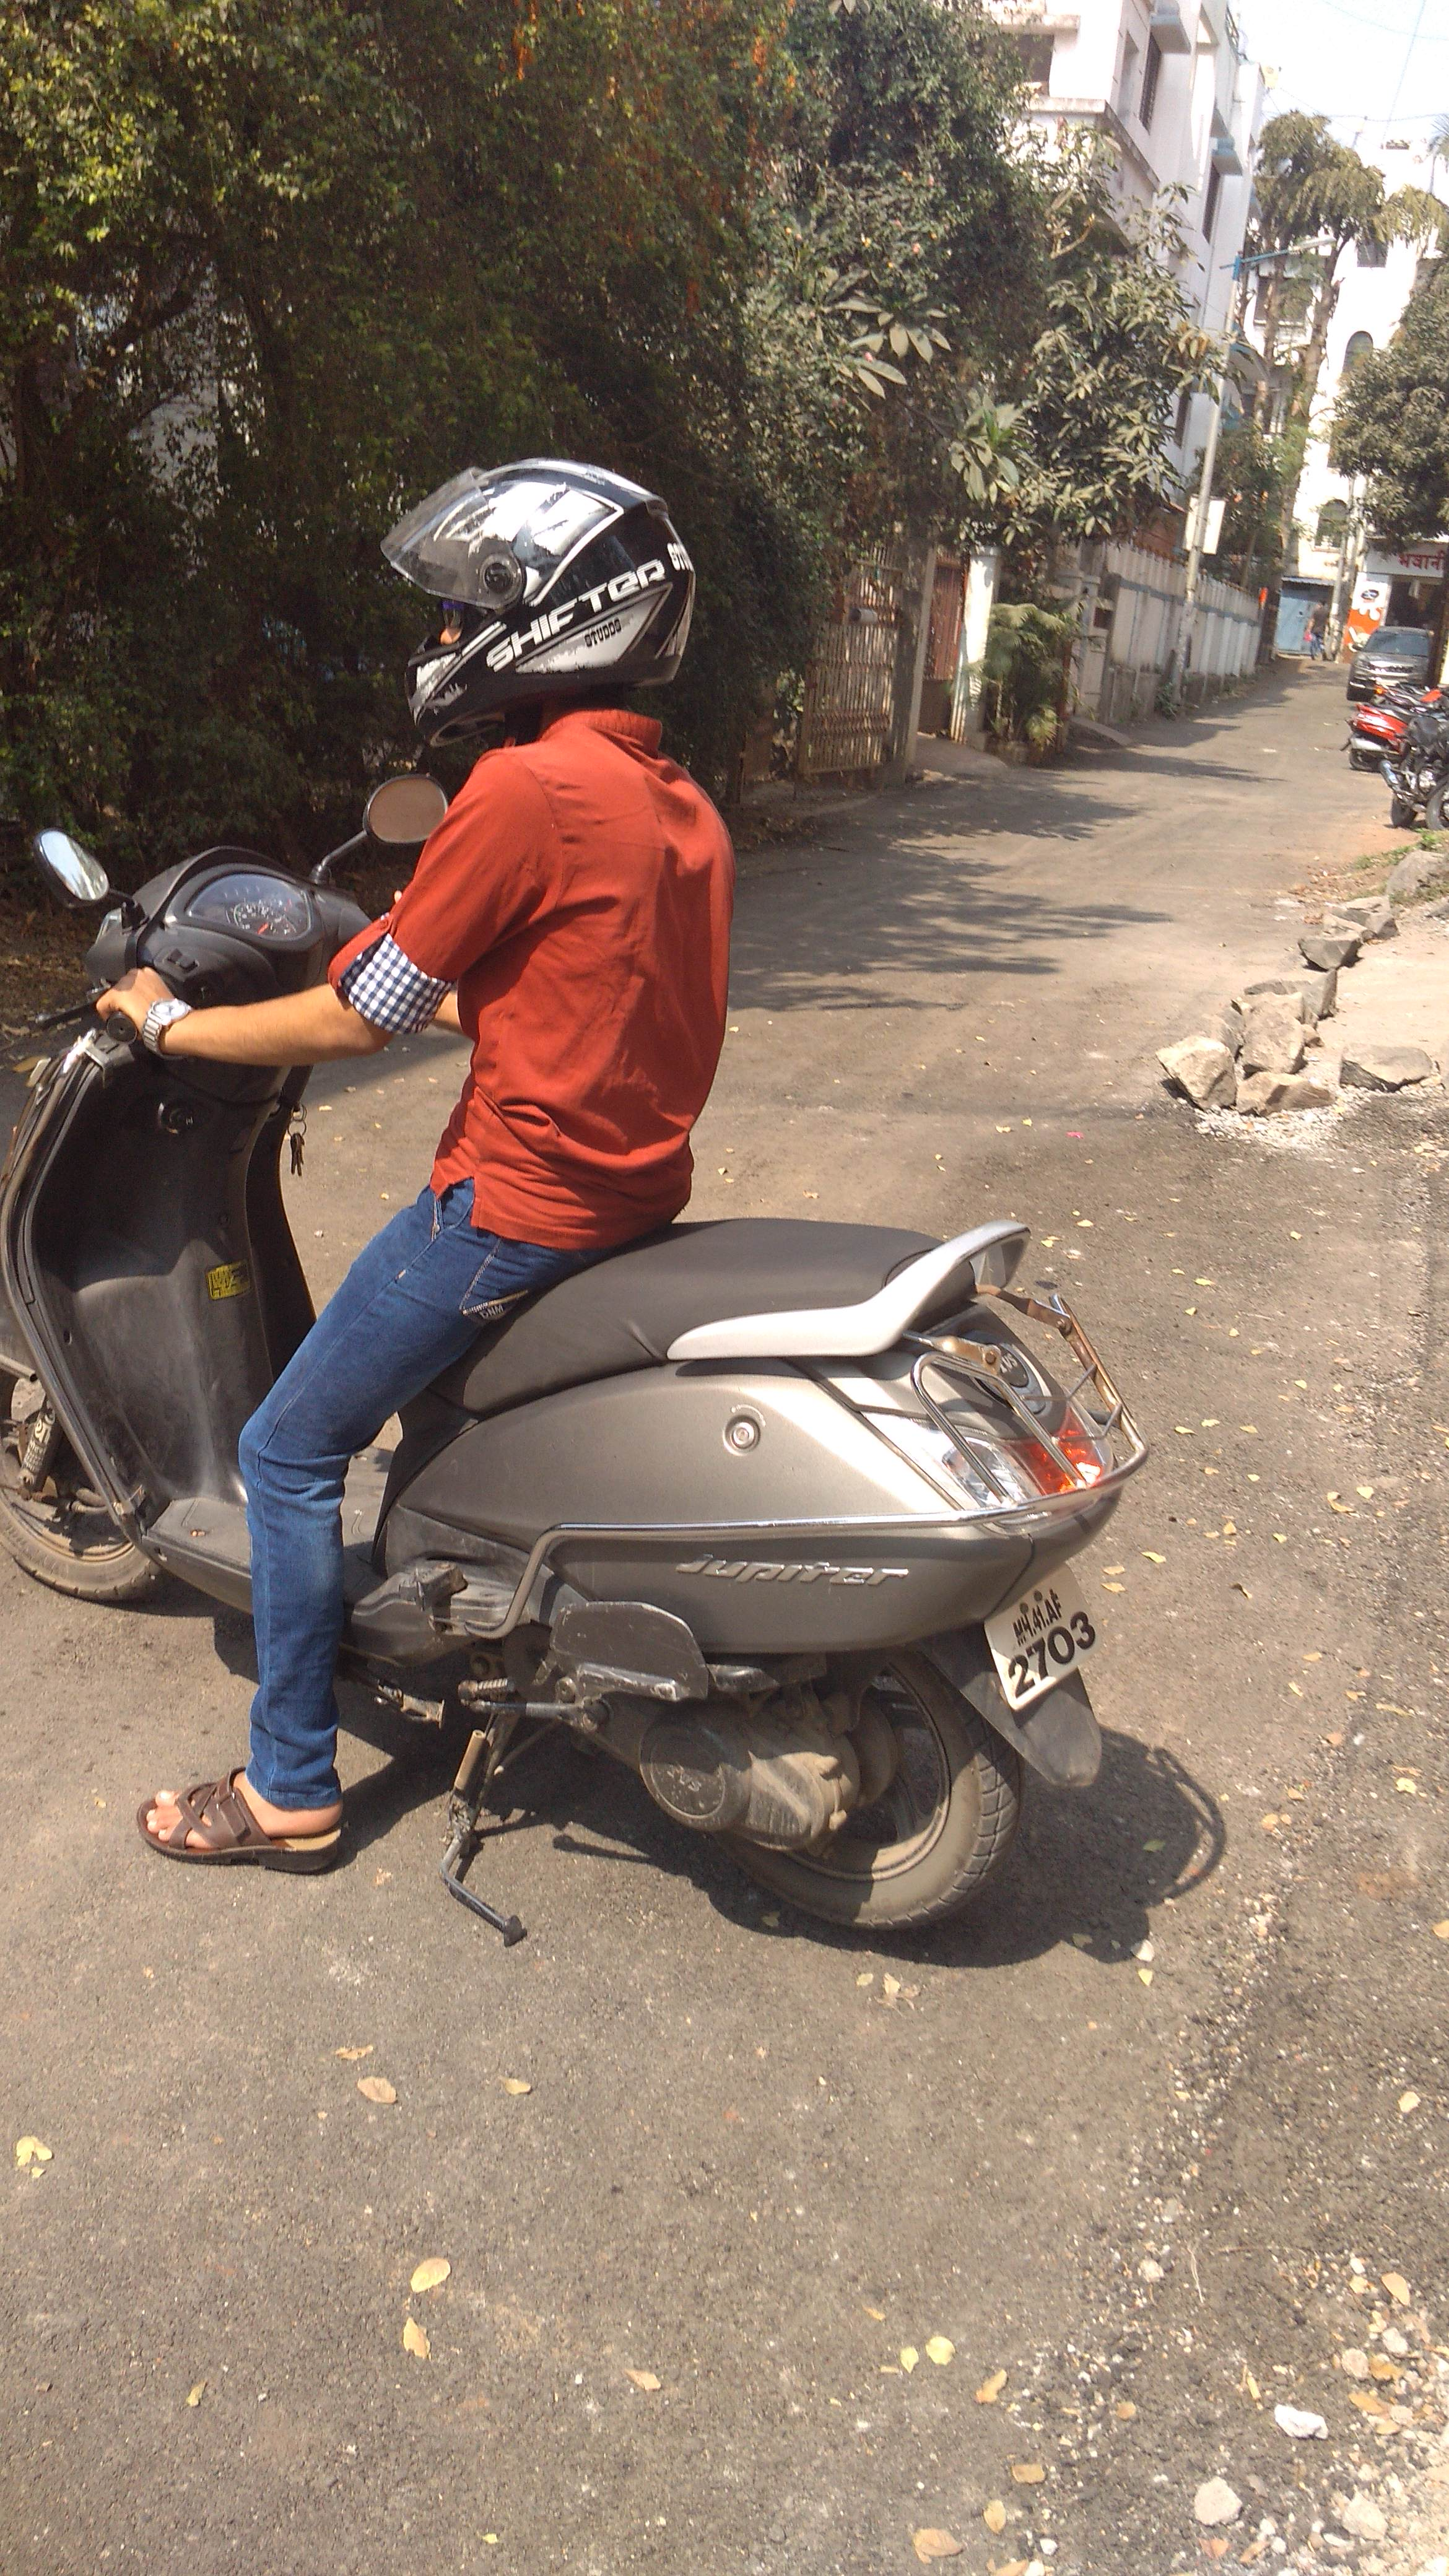helmet: (0, 419, 1215, 1904)
